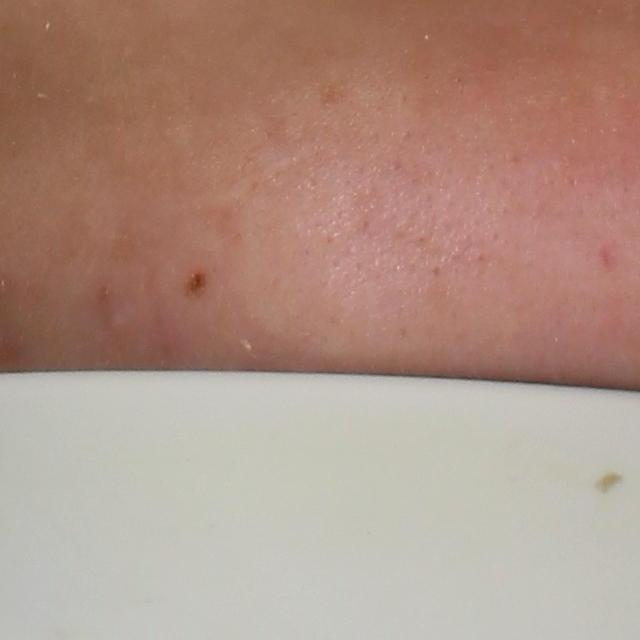comedo: (104, 314, 127, 336)
nevus: (184, 269, 214, 299)
